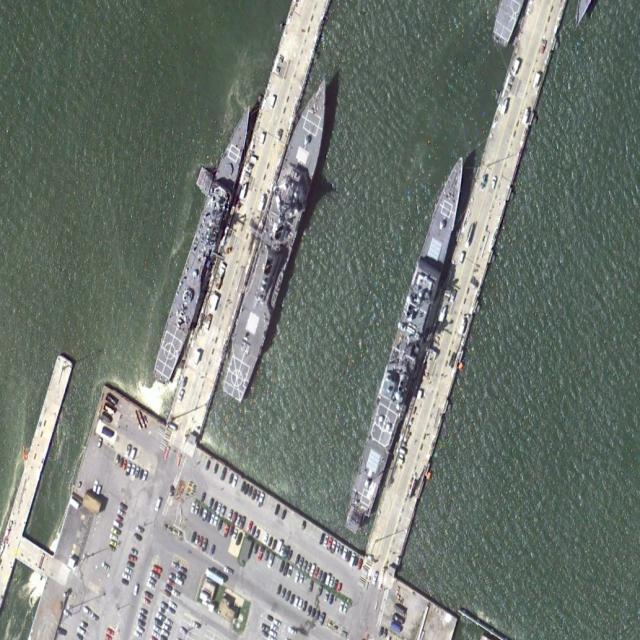Cruiser: (340, 147, 476, 538)
Destroyer: (217, 66, 340, 409)
Frigate: (149, 96, 263, 386)
